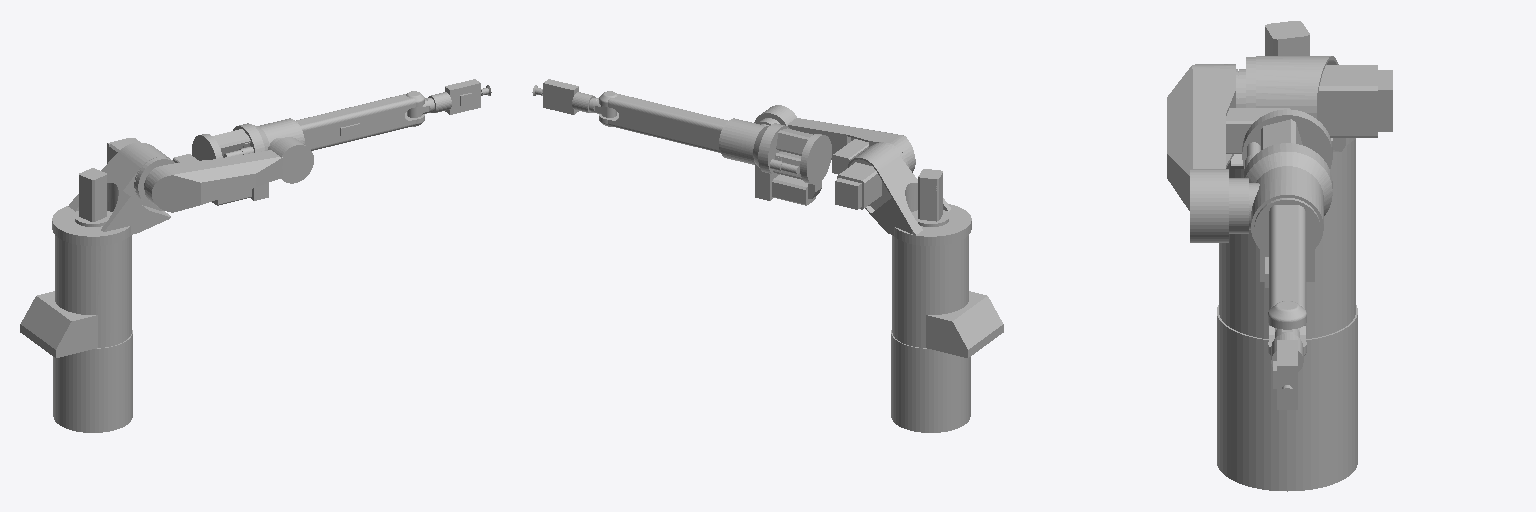
URDF robot description (rv6l):
<?xml version="1.0" encoding="utf-8"?>
<!-- This URDF was automatically created by SolidWorks to URDF Exporter! Originally created by [author] ([email redacted]) 
     Commit Version: 1.6.0-1-g15f4949  Build Version: 1.6.7594.29634
     For more information, please see http://wiki.ros.org/sw_urdf_exporter -->
<robot
  name="rv6l">
  <link
    name="RV6L_L1">
    <inertial>
      <origin
        xyz="-0.011669 0 0.45634"
        rpy="0 0 0" />
      <mass
        value="91.486" />
      <inertia
        ixx="2.4489"
        ixy="4.4764E-17"
        ixz="-0.18189"
        iyy="2.5908"
        iyz="7.3455E-17"
        izz="1.5279" />
    </inertial>
    <visual>
      <origin
        xyz="0 0 0"
        rpy="0 0 0" />
      <geometry>
        <mesh
          filename="package://rv6l/meshes/RV6L_L1.STL" />
      </geometry>
      <material
        name="">
        <color
          rgba="0.75294 0.75294 0.75294 1" />
      </material>
    </visual>
    <collision>
      <origin
        xyz="0 0 0"
        rpy="0 0 0" />
      <geometry>
        <mesh
          filename="package://rv6l/meshes/RV6L_L1.STL" />
      </geometry>
    </collision>
  </link>
  <link
    name="RV6L_L2">
    <inertial>
      <origin
        xyz="0.16779 0.019758 0.13471"
        rpy="0 0 0" />
      <mass
        value="23.489" />
      <inertia
        ixx="0.31629"
        ixy="-0.016755"
        ixz="-0.072157"
        iyy="0.28925"
        iyz="-0.023028"
        izz="0.37089" />
    </inertial>
    <visual>
      <origin
        xyz="0 0 0"
        rpy="0 0 0" />
      <geometry>
        <mesh
          filename="package://rv6l/meshes/RV6L_L2.STL" />
      </geometry>
      <material
        name="">
        <color
          rgba="0.75294 0.75294 0.75294 1" />
      </material>
    </visual>
    <collision>
      <origin
        xyz="0 0 0"
        rpy="0 0 0" />
      <geometry>
        <mesh
          filename="package://rv6l/meshes/RV6L_L2.STL" />
      </geometry>
    </collision>
  </link>
  <joint
    name="Joint_1"
    type="continuous">
    <origin
      xyz="0 0 0.912"
      rpy="0 0 0" />
    <parent
      link="RV6L_L1" />
    <child
      link="RV6L_L2" />
    <axis
      xyz="0 0 1" />
    <limit
      lower="-3.1"
      upper="2.6"
      effort="0"
      velocity="2.4" />
  </joint>
  <link
    name="RV6L_L3">
    <inertial>
      <origin
        xyz="0.27967 5.116E-07 -0.19021"
        rpy="0 0 0" />
      <mass
        value="15.986" />
      <inertia
        ixx="0.077323"
        ixy="1.5334E-06"
        ixz="0.027022"
        iyy="0.39281"
        iyz="1.9081E-07"
        izz="0.37023" />
    </inertial>
    <visual>
      <origin
        xyz="0 0 0"
        rpy="0 0 0" />
      <geometry>
        <mesh
          filename="package://rv6l/meshes/RV6L_L3.STL" />
      </geometry>
      <material
        name="">
        <color
          rgba="0.75294 0.75294 0.75294 1" />
      </material>
    </visual>
    <collision>
      <origin
        xyz="0 0 0"
        rpy="0 0 0" />
      <geometry>
        <mesh
          filename="package://rv6l/meshes/RV6L_L3.STL" />
      </geometry>
    </collision>
  </link>
  <joint
    name="Joint_2"
    type="continuous">
    <origin
      xyz="0.28 0 0.203"
      rpy="-1.5708 0 0" />
    <parent
      link="RV6L_L2" />
    <child
      link="RV6L_L3" />
    <axis
      xyz="0 0 1" />
    <limit
      lower="-2.1"
      upper="0.5"
      effort="0"
      velocity="2.4" />
  </joint>
  <link
    name="RV6L_L4">
    <inertial>
      <origin
        xyz="-0.078281 0.039079 -0.0022158"
        rpy="0 0 0" />
      <mass
        value="11.879" />
      <inertia
        ixx="0.10965"
        ixy="0.046217"
        ixz="0.0013005"
        iyy="0.12618"
        iyz="-0.0011595"
        izz="0.18037" />
    </inertial>
    <visual>
      <origin
        xyz="0 0 0"
        rpy="0 0 0" />
      <geometry>
        <mesh
          filename="package://rv6l/meshes/RV6L_L4.STL" />
      </geometry>
      <material
        name="">
        <color
          rgba="0.75294 0.75294 0.75294 1" />
      </material>
    </visual>
    <collision>
      <origin
        xyz="0 0 0"
        rpy="0 0 0" />
      <geometry>
        <mesh
          filename="package://rv6l/meshes/RV6L_L4.STL" />
      </geometry>
    </collision>
  </link>
  <joint
    name="Joint_3"
    type="continuous">
    <origin
      xyz="0.615 0 0"
      rpy="0 0 0" />
    <parent
      link="RV6L_L3" />
    <child
      link="RV6L_L4" />
    <axis
      xyz="0 0 1" />
    <limit
      lower="-2"
      upper="2.6"
      effort="0"
      velocity="2.4" />
  </joint>
  <link
    name="RV6L_L5">
    <inertial>
      <origin
        xyz="0.25644 -0.00019106 -1.1102E-16"
        rpy="0 0 0" />
      <mass
        value="10.468" />
      <inertia
        ixx="0.019196"
        ixy="-5.0133E-05"
        ixz="-2.9411E-17"
        iyy="0.22409"
        iyz="-9.3311E-06"
        izz="0.21864" />
    </inertial>
    <visual>
      <origin
        xyz="0 0 0"
        rpy="0 0 0" />
      <geometry>
        <mesh
          filename="package://rv6l/meshes/RV6L_L5.STL" />
      </geometry>
      <material
        name="">
        <color
          rgba="0.75294 0.75294 0.75294 1" />
      </material>
    </visual>
    <collision>
      <origin
        xyz="0 0 0"
        rpy="0 0 0" />
      <geometry>
        <mesh
          filename="package://rv6l/meshes/RV6L_L5.STL" />
      </geometry>
    </collision>
  </link>
  <joint
    name="Joint_4"
    type="continuous">
    <origin
      xyz="0 0 0"
      rpy="1.5707963267949 0 0" />
    <parent
      link="RV6L_L4" />
    <child
      link="RV6L_L5" />
    <axis
      xyz="1 0 0" />
    <limit
      lower="-3.1"
      upper="3.1"
      effort="0"
      velocity="4.6" />
  </joint>
  <link
    name="RV6L_L6">
    <inertial>
      <origin
        xyz="0.031554 -2.5737E-08 1.05E-05"
        rpy="0 0 0" />
      <mass
        value="0.38498" />
      <inertia
        ixx="0.0002071"
        ixy="5.7131E-12"
        ixz="-2.643E-07"
        iyy="0.00053065"
        iyz="8.8854E-12"
        izz="0.0005245" />
    </inertial>
    <visual>
      <origin
        xyz="0 0 0"
        rpy="0 0 0" />
      <geometry>
        <mesh
          filename="package://rv6l/meshes/RV6L_L6.STL" />
      </geometry>
      <material
        name="">
        <color
          rgba="0.75294 0.75294 0.75294 1" />
      </material>
    </visual>
    <collision>
      <origin
        xyz="0 0 0"
        rpy="0 0 0" />
      <geometry>
        <mesh
          filename="package://rv6l/meshes/RV6L_L6.STL" />
      </geometry>
    </collision>
  </link>
  <joint
    name="Joint_5"
    type="continuous">
    <origin
      xyz="0.74 0 0"
      rpy="0 0 0" />
    <parent
      link="RV6L_L5" />
    <child
      link="RV6L_L6" />
    <axis
      xyz="0 0 1" />
    <limit
      lower="-2.1"
      upper="2.1"
      effort="0"
      velocity="4.6" />
  </joint>
  <link
    name="RV6L_Greifer_Sauger">
    <inertial>
      <origin
        xyz="-0.00064473 0 0.12636"
        rpy="0 0 0" />
      <mass
        value="1.3959" />
      <inertia
        ixx="0.0079992"
        ixy="-2.1898E-19"
        ixz="2.8024E-05"
        iyy="0.0070973"
        iyz="8.8711E-19"
        izz="0.0016686" />
    </inertial>
    <visual>
      <origin
        xyz="0 0 0"
        rpy="0 0 0" />
      <geometry>
        <mesh
          filename="package://rv6l/meshes/RV6L_Greifer_Sauger.STL" />
      </geometry>
      <material
        name="">
        <color
          rgba="0.75294 0.75294 0.75294 1" />
      </material>
    </visual>
    <collision>
      <origin
        xyz="0 0 0"
        rpy="0 0 0" />
      <geometry>
        <mesh
          filename="package://rv6l/meshes/RV6L_Greifer_Sauger.STL" />
      </geometry>
    </collision>
  </link>
  <joint
    name="Joint_6"
    type="continuous">
    <origin
      xyz="0.0900000000000001 0 0"
      rpy="1.5707963267949 0 1.5707963267949" />
    <parent
      link="RV6L_L6" />
    <child
      link="RV6L_Greifer_Sauger" />
    <axis
      xyz="0 0 1" />
    <limit
      lower="-6.2"
      upper="6.2"
      effort="0"
      velocity="6.8" />
  </joint>
</robot>

--- Facts derived from the render (not from the file) ---
3 views of the same robot in one strip: view 1: azimuth 30°, elevation 25°; view 2: azimuth 150°, elevation 25°; view 3: azimuth 270°, elevation 25° (orthographic).
Robot: rv6l — 7 links, 6 joints (6 continuous); root link RV6L_L1; default pose: all joints at 0.
Links seen in each view (by area): view 1: RV6L_L1, RV6L_L2, RV6L_L3, RV6L_L5, RV6L_L4, RV6L_Greifer_Sauger; view 2: RV6L_L1, RV6L_L2, RV6L_L5, RV6L_L4, RV6L_L3, RV6L_Greifer_Sauger; view 3: RV6L_L1, RV6L_L3, RV6L_L2, RV6L_L4, RV6L_L5, RV6L_Greifer_Sauger.
Boxes of the visible links, x1,y1,x2,y2 form: RV6L_L1: (20, 235, 132, 432); RV6L_L2: (52, 138, 174, 245); RV6L_L3: (144, 137, 313, 212); RV6L_L5: (213, 91, 424, 157); RV6L_L4: (192, 118, 303, 205); RV6L_Greifer_Sauger: (428, 79, 491, 114); RV6L_L1: (891, 235, 1003, 432); RV6L_L2: (835, 142, 971, 245); RV6L_L5: (599, 91, 812, 179); RV6L_L4: (720, 118, 831, 205); RV6L_L3: (754, 105, 915, 174); RV6L_Greifer_Sauger: (532, 79, 595, 114); RV6L_L1: (1217, 139, 1357, 491); RV6L_L3: (1167, 64, 1289, 242); RV6L_L2: (1231, 21, 1392, 168); RV6L_L4: (1242, 109, 1332, 281); RV6L_L5: (1245, 119, 1320, 355); RV6L_Greifer_Sauger: (1271, 333, 1303, 409).
Bounding box of the posed robot: 2.29 × 0.5591 × 1.23 m (x, y, z).
Meshes: 7 distinct files referenced, 7 mesh visuals loaded (7 binary STL).